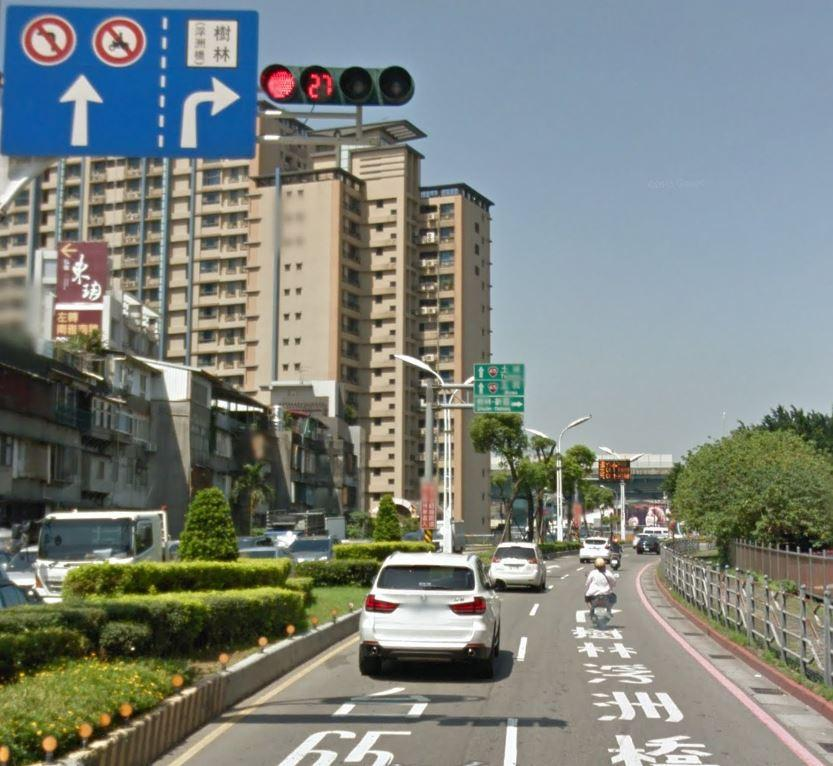red_traffic_light: (257, 61, 413, 109)
